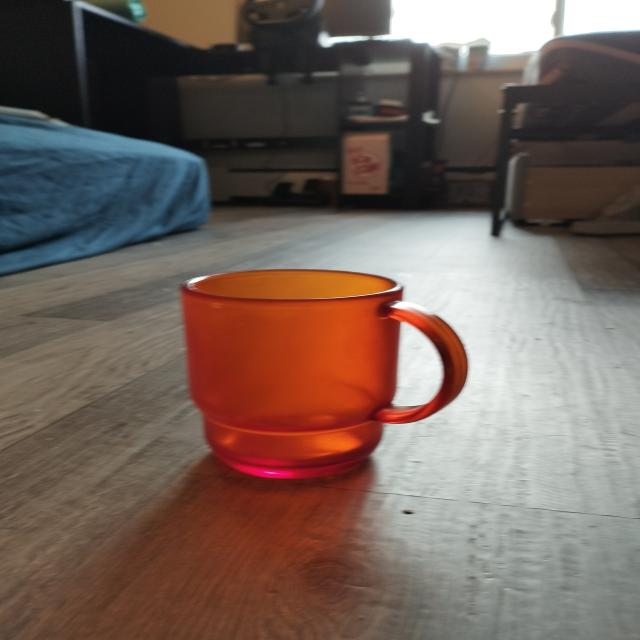Cup: (151, 245, 474, 521)
